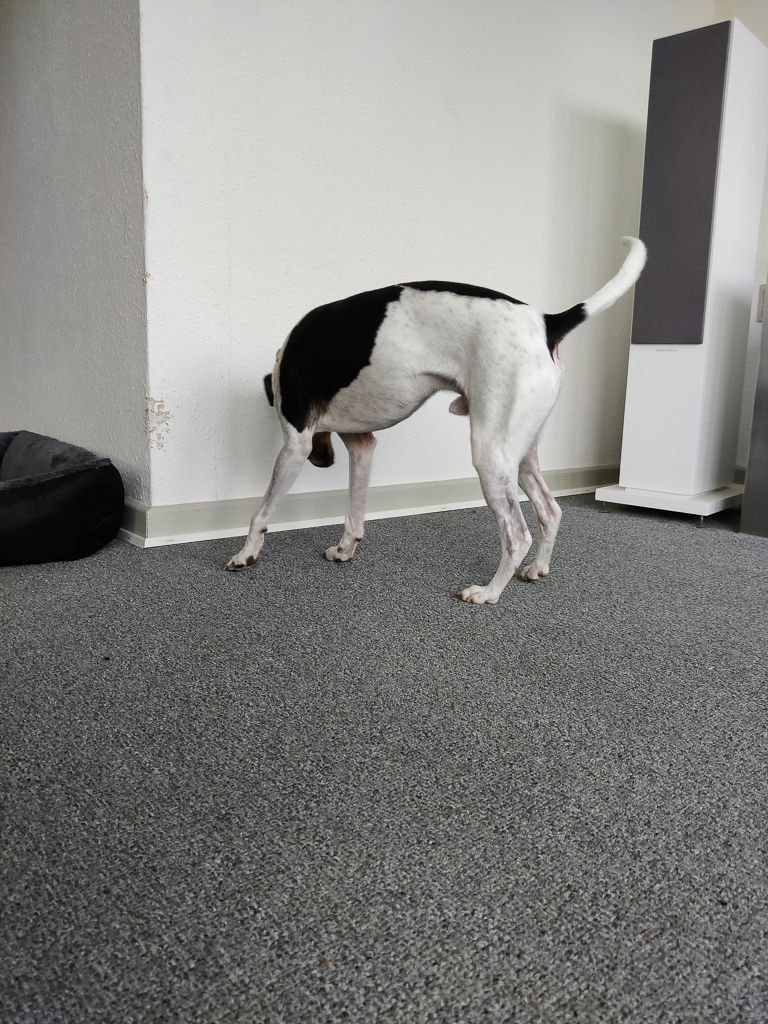Dog: (214, 187, 656, 618)
